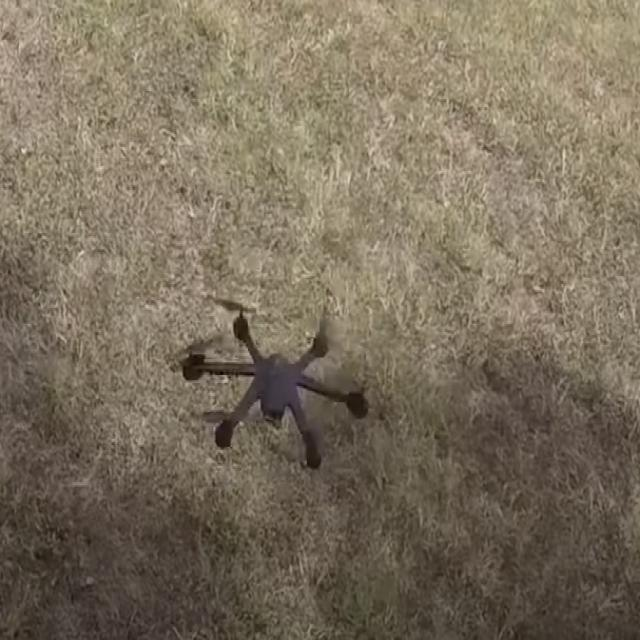drone: (158, 269, 392, 507)
